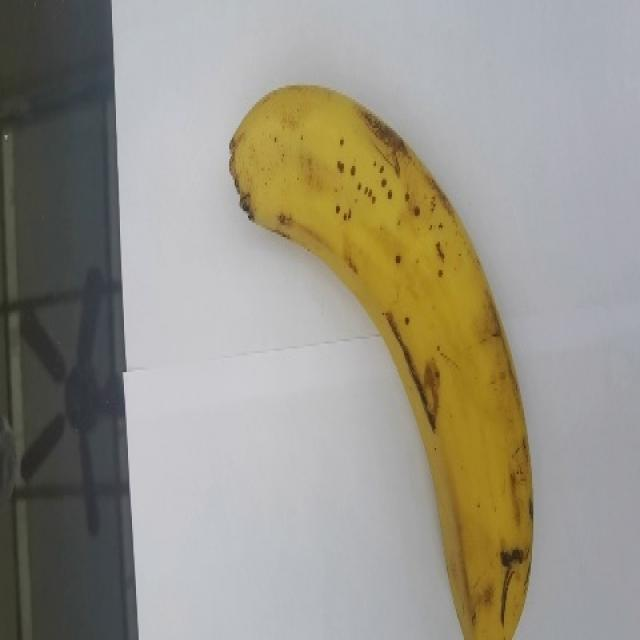Banana: (222, 83, 535, 640)
